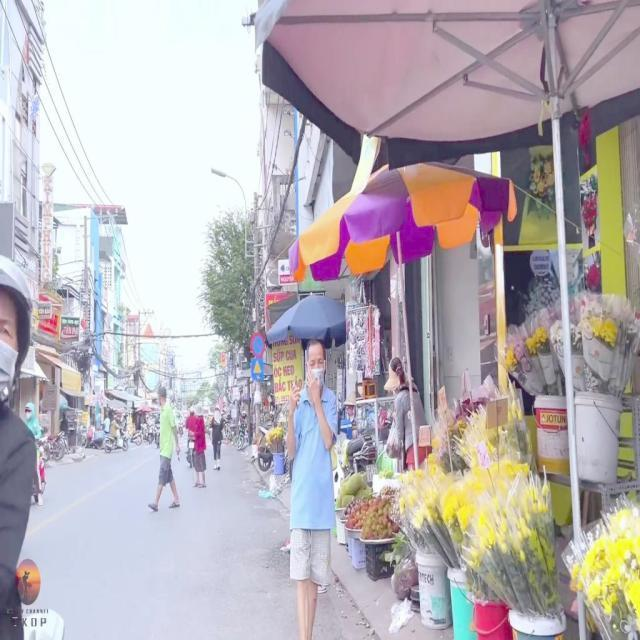131a-cam-do-xe: (248, 332, 268, 356)
442-cho: (250, 359, 264, 381)
